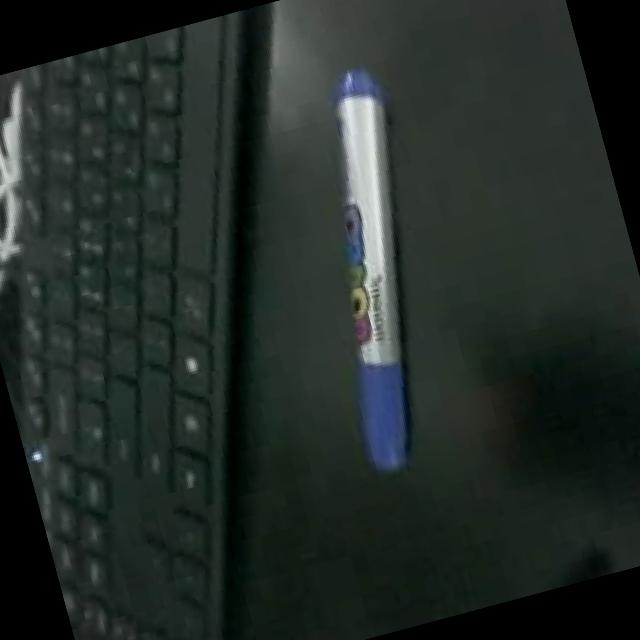board-marker: (336, 68, 411, 469)
